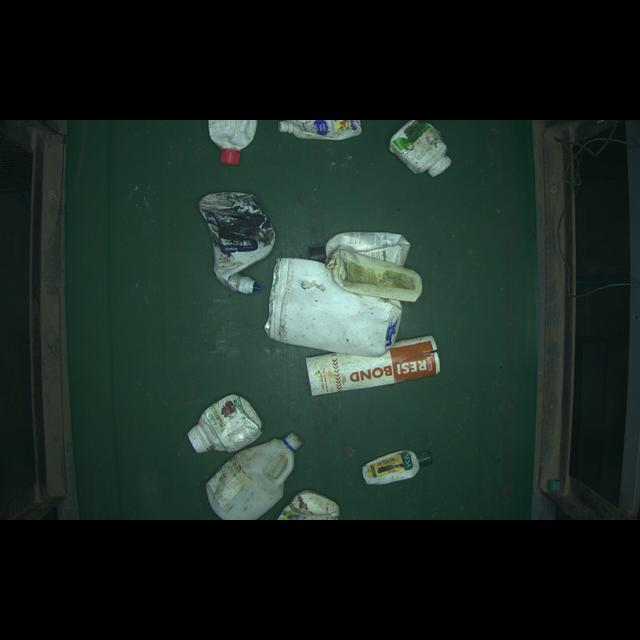mix PET: (274, 254, 413, 360), (296, 331, 462, 402), (189, 188, 281, 298), (329, 243, 433, 309), (185, 383, 260, 460), (355, 436, 439, 489)
